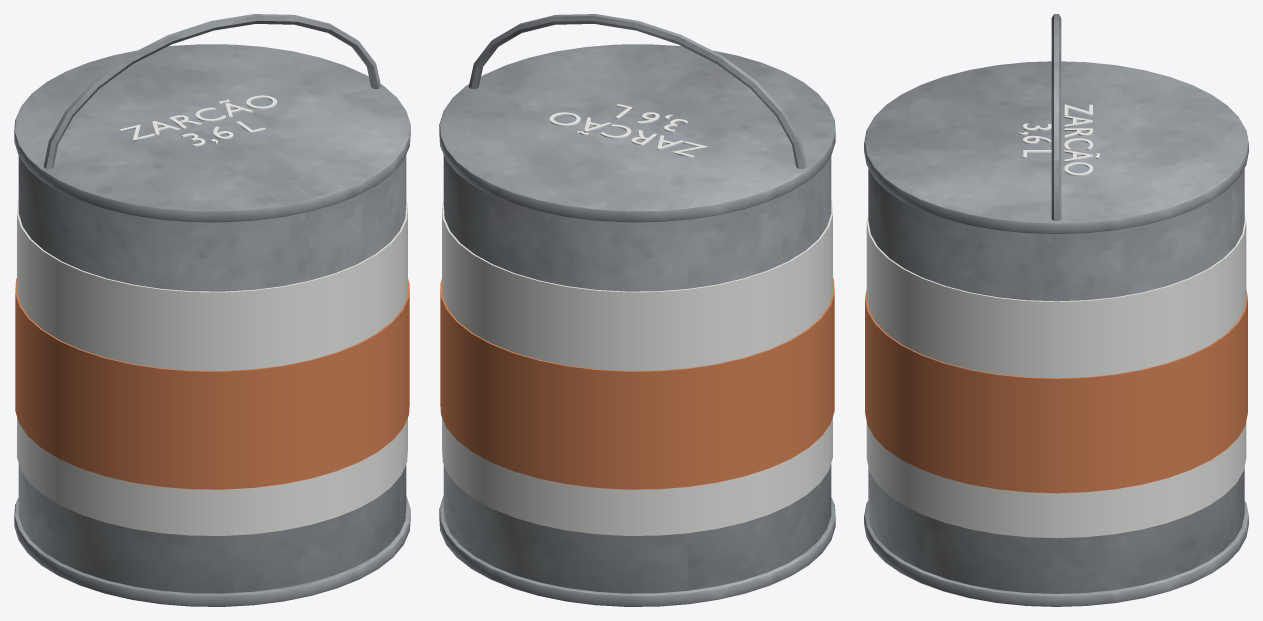
The model's file is PIN-PRE-005.glb.
The picture shows the model from 3 angles, left to right: view 1: azimuth 30°, elevation 25°; view 2: azimuth 150°, elevation 25°; view 3: azimuth 270°, elevation 25°; orthographic projection. The views are drawn at different scales.
Visible parts, largest first — view 1: PIN-PRE-005_aro, PIN-PRE-005_rotulo, PIN-PRE-005_lata, PIN-PRE-005_amostra, PIN-PRE-005_aro2, PIN-PRE-005_alca, PIN-PRE-005_texto; view 2: PIN-PRE-005_aro, PIN-PRE-005_rotulo, PIN-PRE-005_lata, PIN-PRE-005_amostra, PIN-PRE-005_aro2, PIN-PRE-005_alca, PIN-PRE-005_texto; view 3: PIN-PRE-005_aro, PIN-PRE-005_rotulo, PIN-PRE-005_lata, PIN-PRE-005_amostra, PIN-PRE-005_aro2, PIN-PRE-005_alca, PIN-PRE-005_texto.
Boxes of the visible parts, left/top/right/bottom form: PIN-PRE-005_aro: left=14, top=44, right=410, bottom=222; PIN-PRE-005_rotulo: left=17, top=200, right=407, bottom=535; PIN-PRE-005_lata: left=18, top=155, right=406, bottom=593; PIN-PRE-005_amostra: left=15, top=278, right=409, bottom=489; PIN-PRE-005_aro2: left=14, top=496, right=410, bottom=606; PIN-PRE-005_alca: left=43, top=14, right=381, bottom=168; PIN-PRE-005_texto: left=119, top=95, right=277, bottom=146; PIN-PRE-005_aro: left=439, top=44, right=835, bottom=222; PIN-PRE-005_rotulo: left=442, top=200, right=832, bottom=535; PIN-PRE-005_lata: left=443, top=155, right=831, bottom=593; PIN-PRE-005_amostra: left=440, top=278, right=834, bottom=489; PIN-PRE-005_aro2: left=439, top=496, right=835, bottom=606; PIN-PRE-005_alca: left=468, top=14, right=806, bottom=168; PIN-PRE-005_texto: left=549, top=104, right=708, bottom=158; PIN-PRE-005_aro: left=864, top=61, right=1248, bottom=233; PIN-PRE-005_rotulo: left=866, top=214, right=1246, bottom=538; PIN-PRE-005_lata: left=868, top=168, right=1244, bottom=593; PIN-PRE-005_amostra: left=865, top=290, right=1247, bottom=493; PIN-PRE-005_aro2: left=864, top=501, right=1248, bottom=606; PIN-PRE-005_alca: left=1051, top=14, right=1061, bottom=220; PIN-PRE-005_texto: left=1018, top=104, right=1100, bottom=176.
Bounding box in the file's own units: 0.174 × 0.2429 × 0.174.
4 materials, 1 textured.
